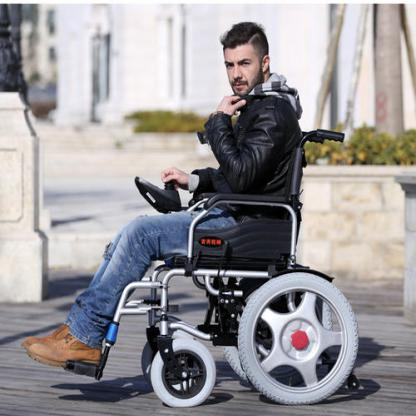wheelchair: (32, 19, 358, 410)
